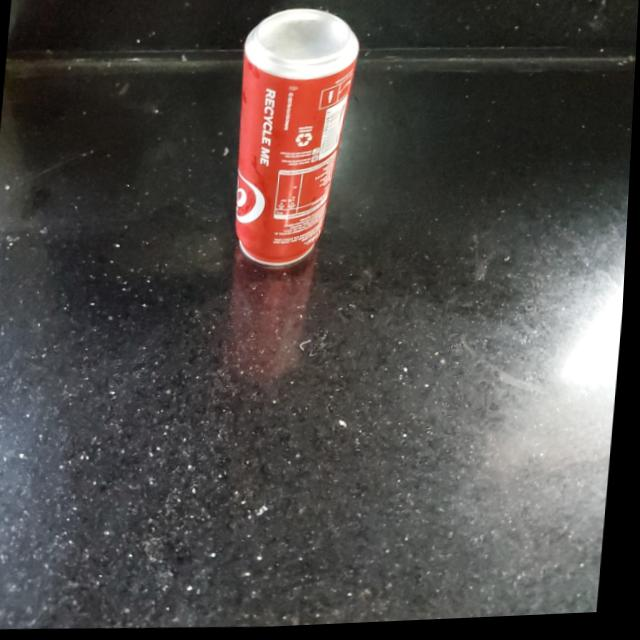coke: (227, 8, 364, 273)
